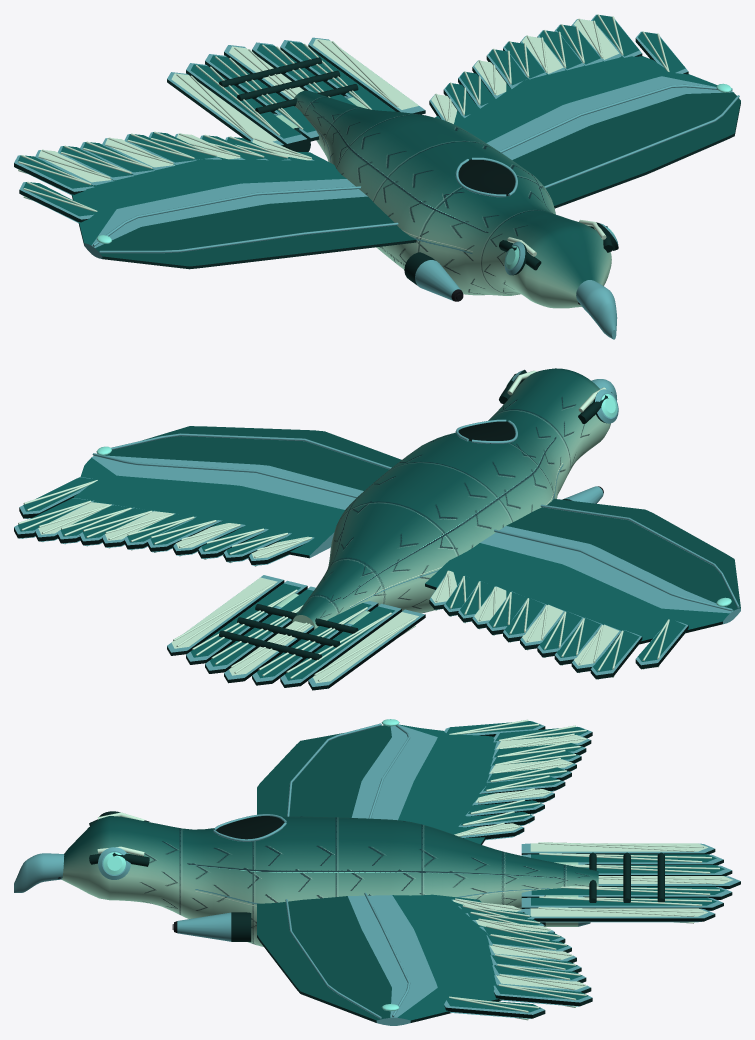
The picture shows the model from 3 angles, top to bottom: view 1: azimuth 30°, elevation 25°; view 2: azimuth 150°, elevation 25°; view 3: azimuth 270°, elevation 25°; orthographic projection. The views are drawn at different scales.
Visible parts, largest first — view 1: goshawk_hull; view 2: goshawk_hull; view 3: goshawk_hull.
Boxes of the visible parts, bbox=[...] form: goshawk_hull: bbox=[14, 14, 740, 339]; goshawk_hull: bbox=[14, 368, 740, 690]; goshawk_hull: bbox=[14, 719, 740, 1025].
Size of the model in its own units: 40.23 by 7.54 by 42.
1 material, 1 textured.
